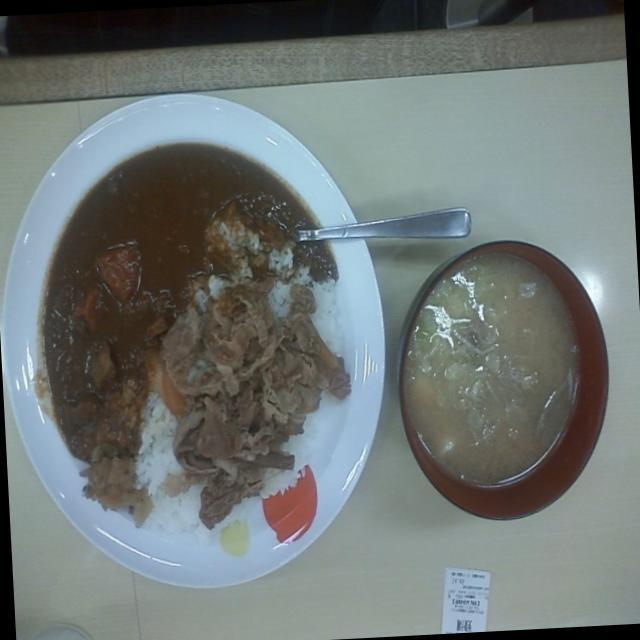Beef Curry: (15, 123, 373, 543)
